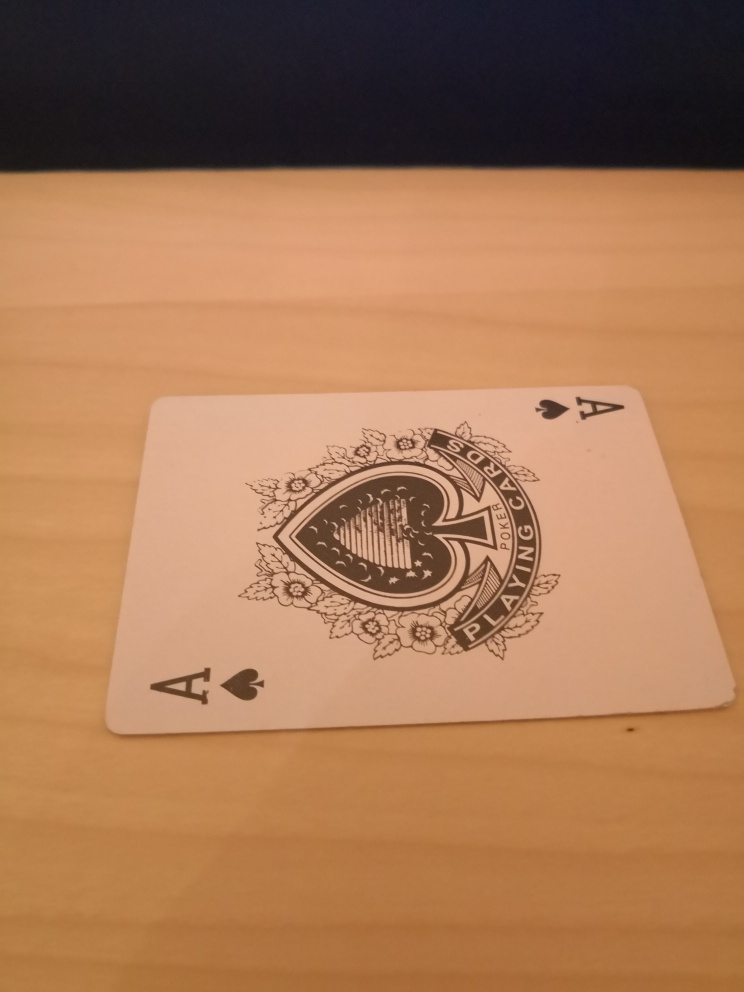ace: (104, 384, 738, 737)
